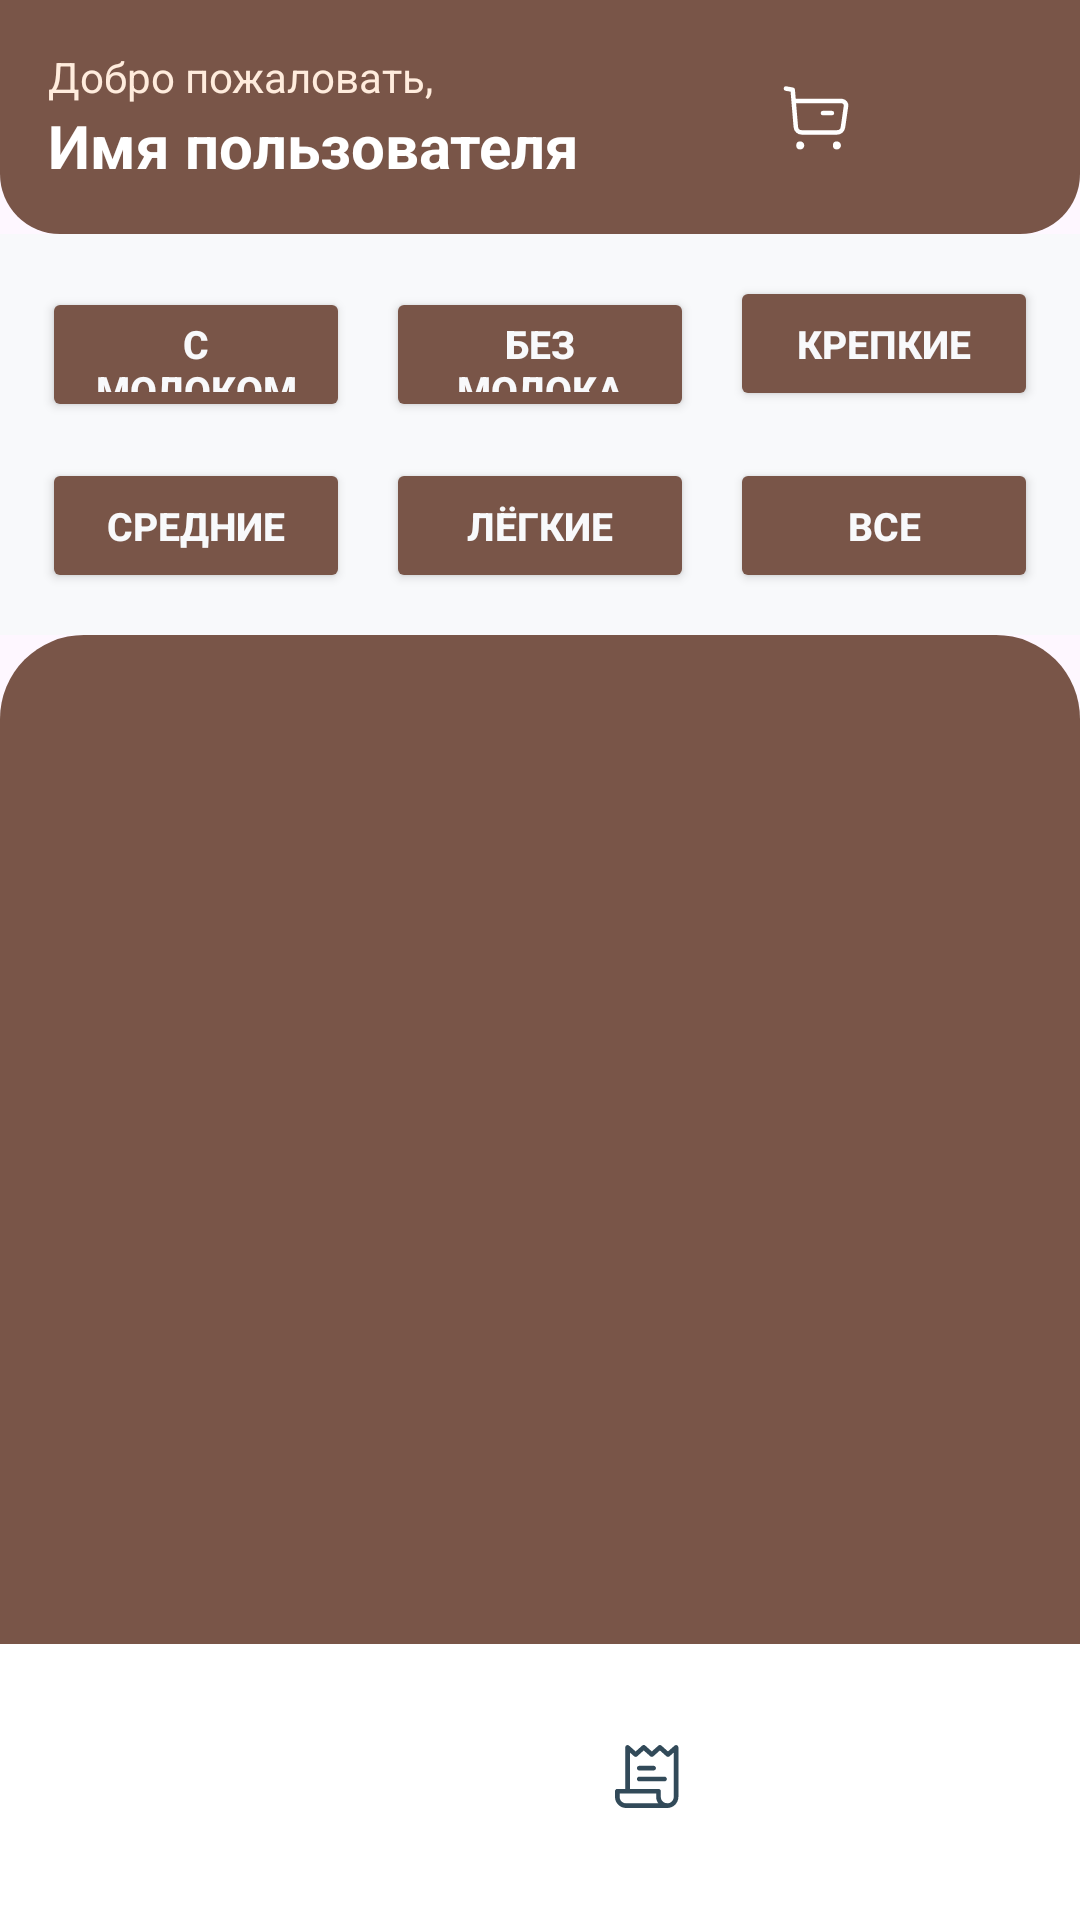

Locate icon controls on the screen. Image size 1080 x 1920, boxes as (x1, y1, x2, y2).
cart: (783, 86, 849, 150)
orders: (615, 1745, 679, 1808)
